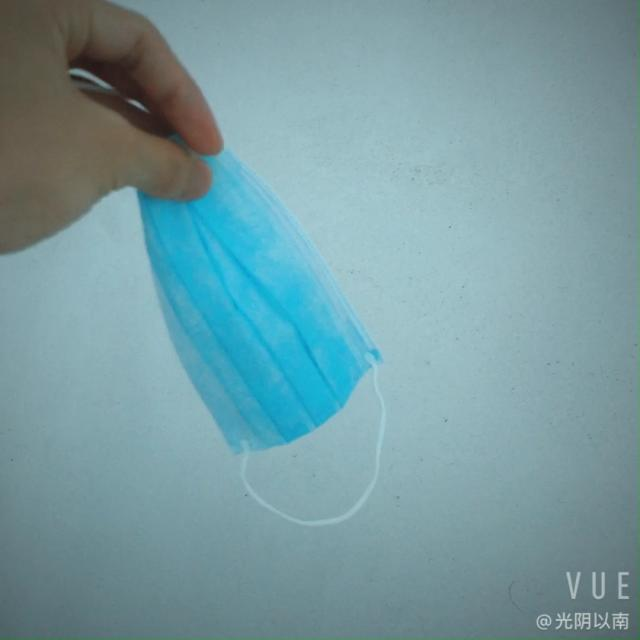non-organic waste: (145, 114, 423, 463)
